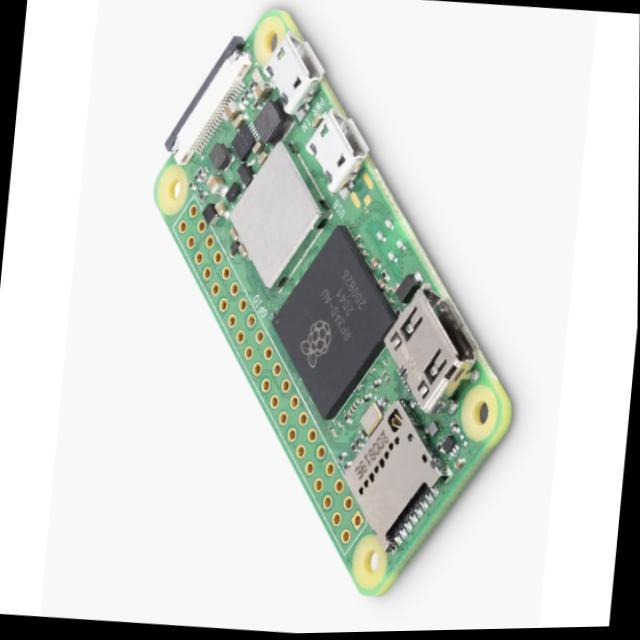Raspberry-Pi-Zero-2-W: (155, 11, 512, 595)
